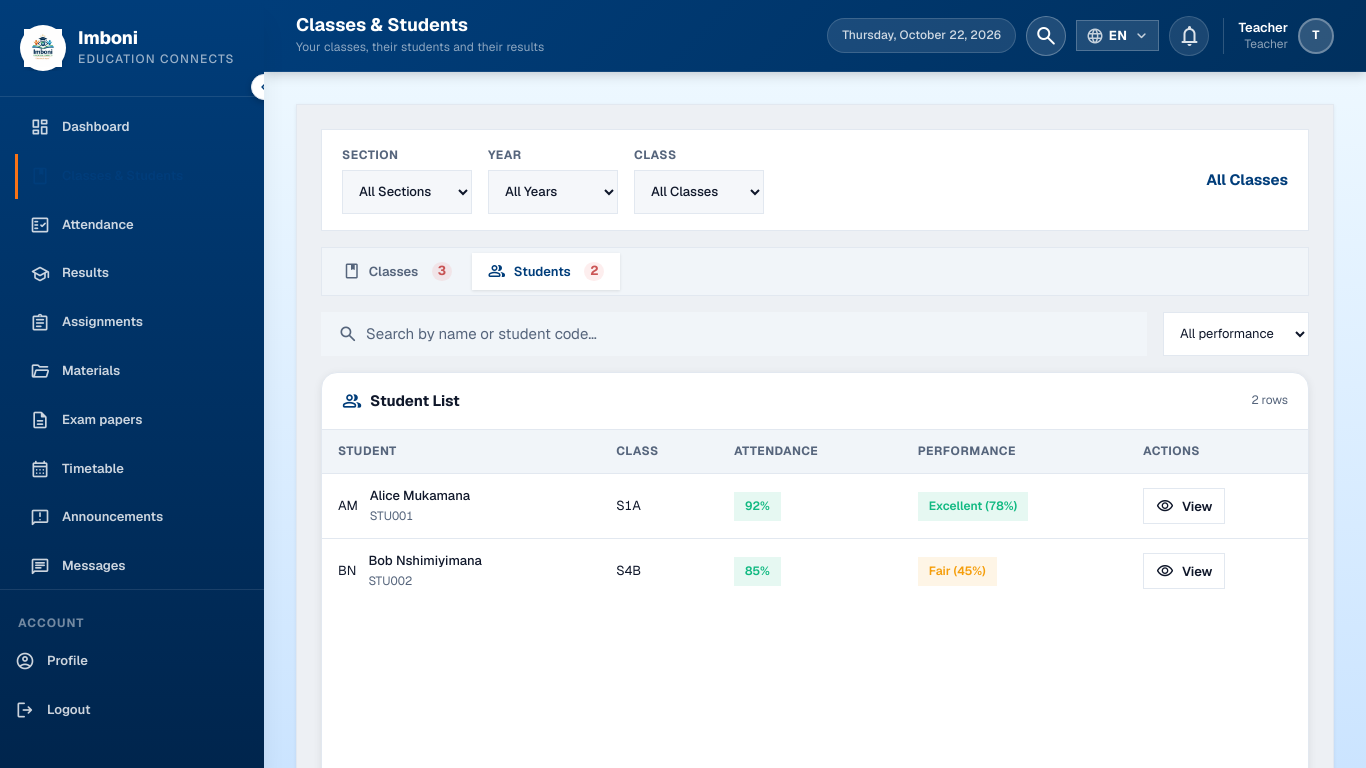
Test case: TeacherClasses — Classes & Students › student profile › opens the profile and goes from there to entering results for a subject
Expected: the text "Alice Mukamana" is shown, [370,486,470,507]
Step 1. Click the button "View" in the row of "Alice Mukamana" → x=1184, y=506, box [1143,488,1226,524]
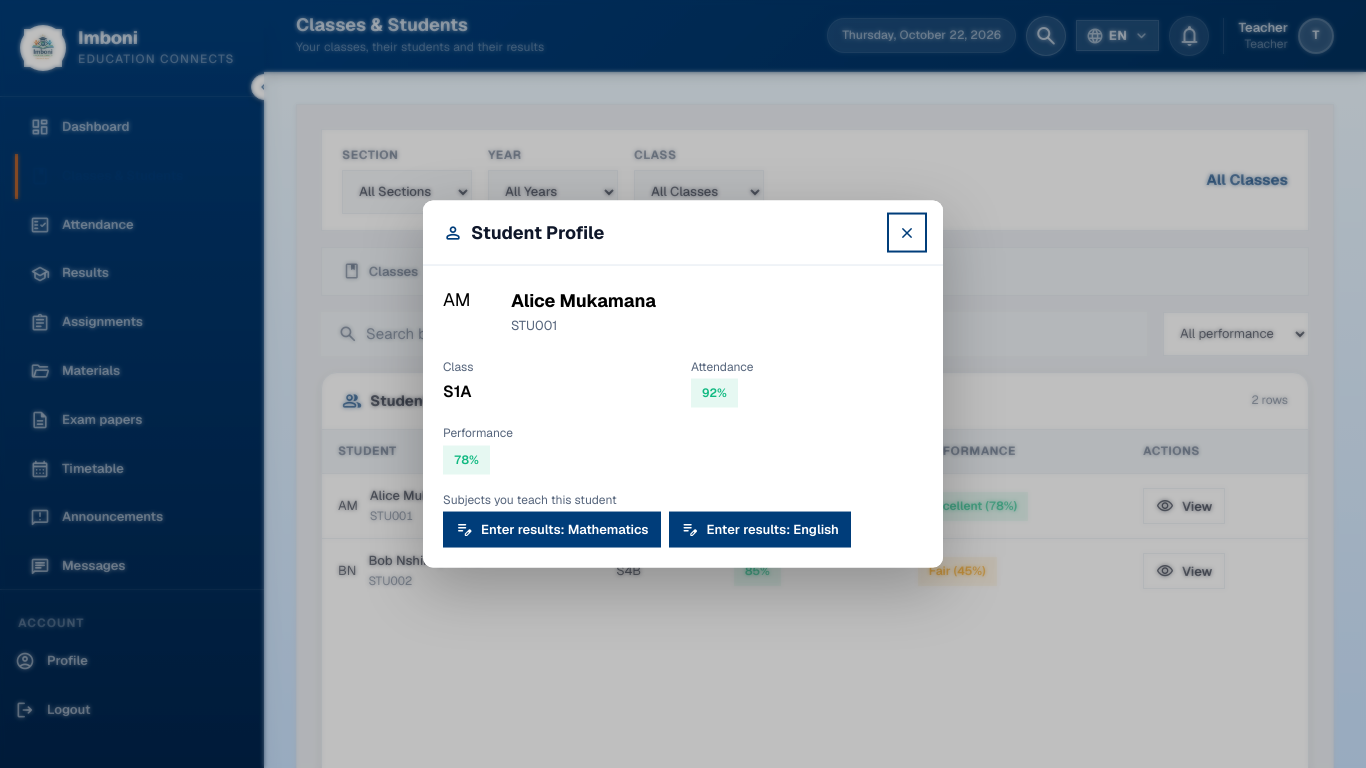
Result: the heading "Student Profile" is shown at [471,221,604,244]
Result: the text "Alice Mukamana" is shown at [511,287,656,316]
Result: the button "Enter results: English" is shown at [668,512,851,548]
Step 2. Click the button "Enter results: Mathematics" → x=552, y=530, box [443,512,660,548]
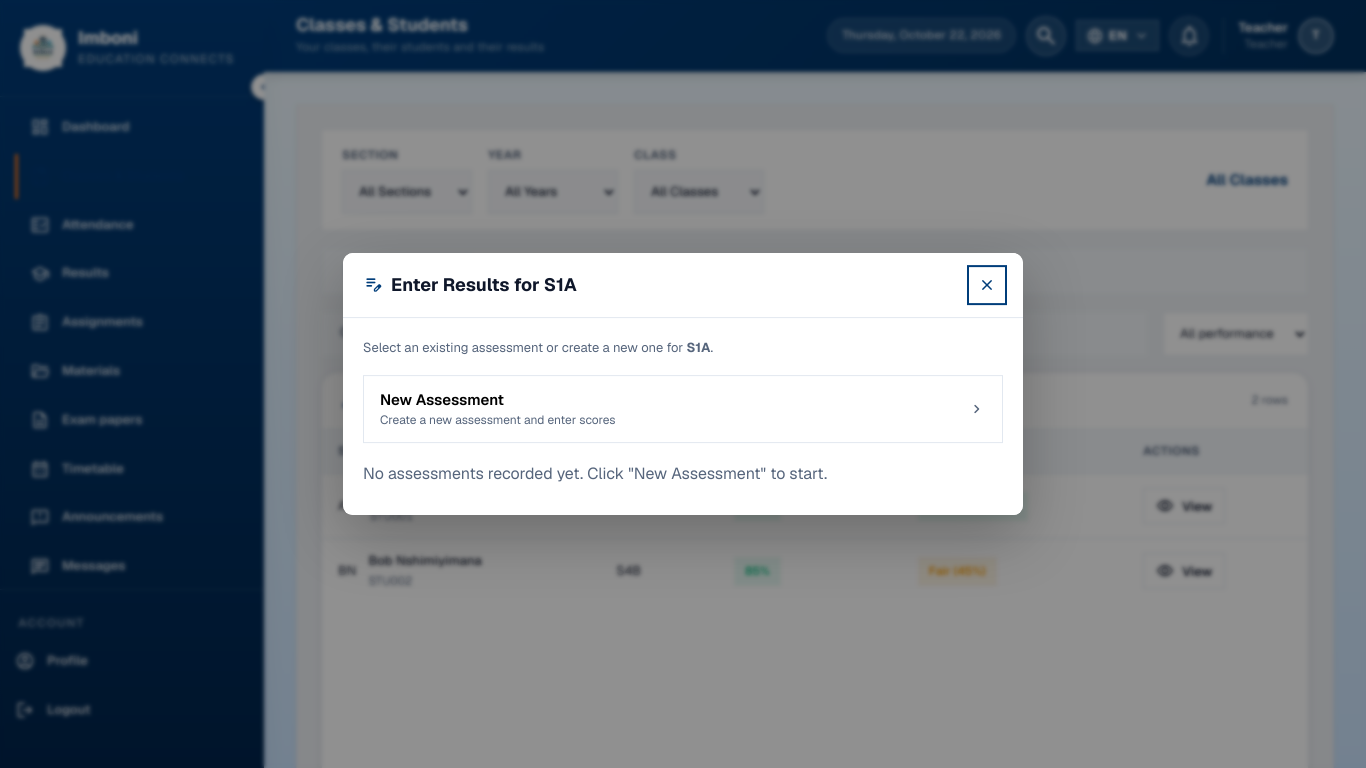
Result: the heading "Enter Results for S1A" is shown at [391,273,577,296]
Result: the heading "Student Profile" is gone
